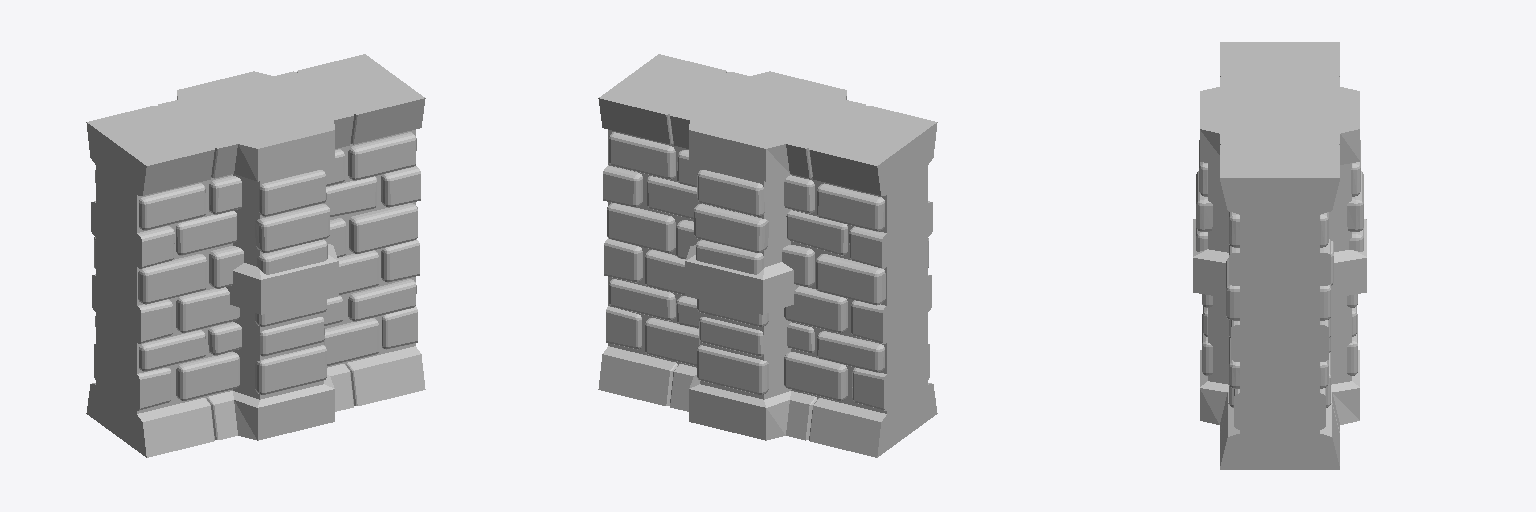
The model's file is wallDecorationA.obj.
3 views of the same model, side by side, from view 1: azimuth 30°, elevation 25°; view 2: azimuth 150°, elevation 25°; view 3: azimuth 270°, elevation 25° (orthographic).
Parts seen in each view (by area): view 1: wallDecorationA_Cube.2617; view 2: wallDecorationA_Cube.2617; view 3: wallDecorationA_Cube.2617.
Boxes of the visible parts, x1,y1,x2,y2 form: wallDecorationA_Cube.2617: [86, 54, 425, 457]; wallDecorationA_Cube.2617: [598, 54, 937, 457]; wallDecorationA_Cube.2617: [1193, 42, 1366, 469].
Bounding box in the file's own units: 4 × 4 × 2.17.